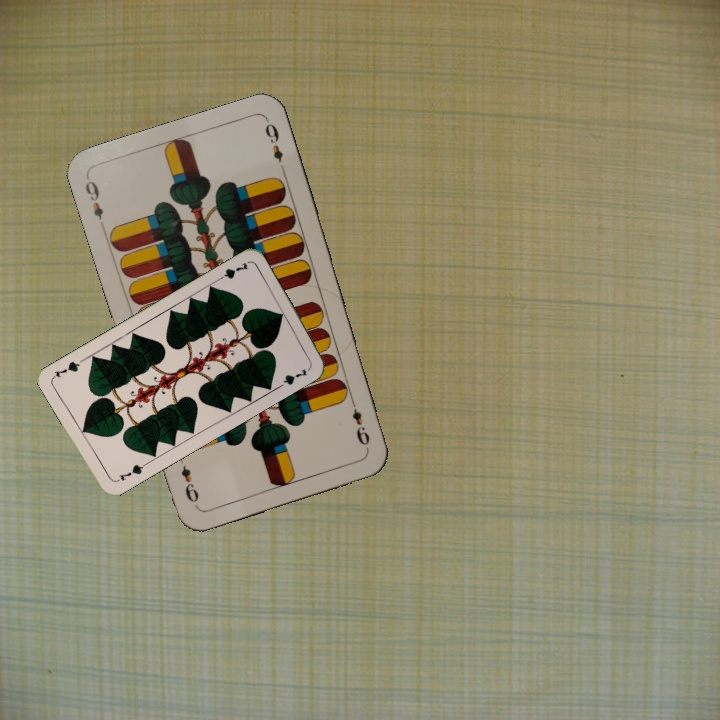E9: (346, 394, 373, 452), (81, 176, 106, 223)
G7: (213, 258, 251, 284), (112, 459, 149, 485)
